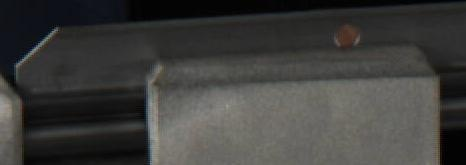cut: (13, 20, 141, 157)
holes: (334, 20, 362, 49)
